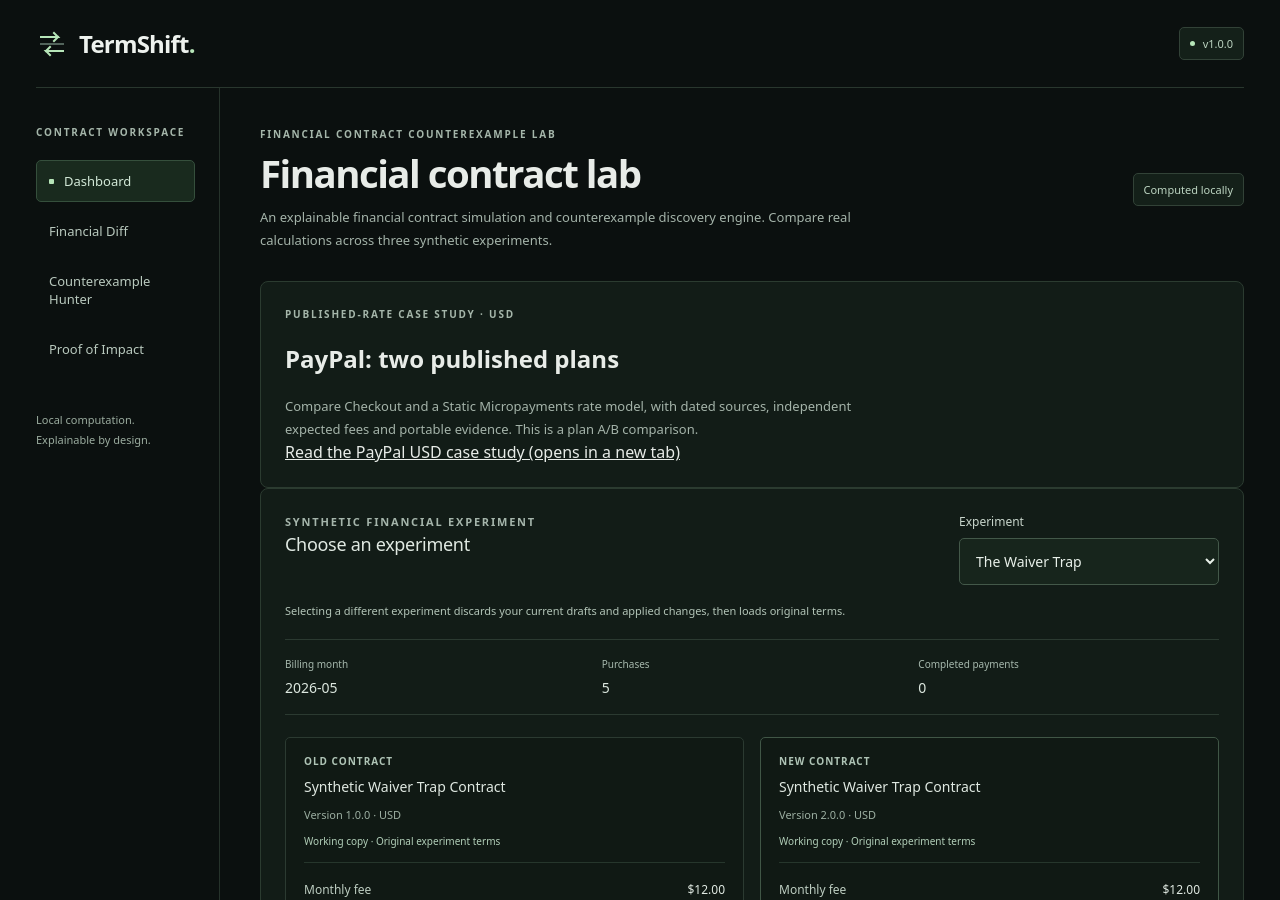
Test: Financial Diff navigation and shared workspace › retains unapplied raw inputs across view changes without running the financial engine
Click the button "Financial Diff": [116, 231] box x1=36 y1=210 x2=195 y2=252
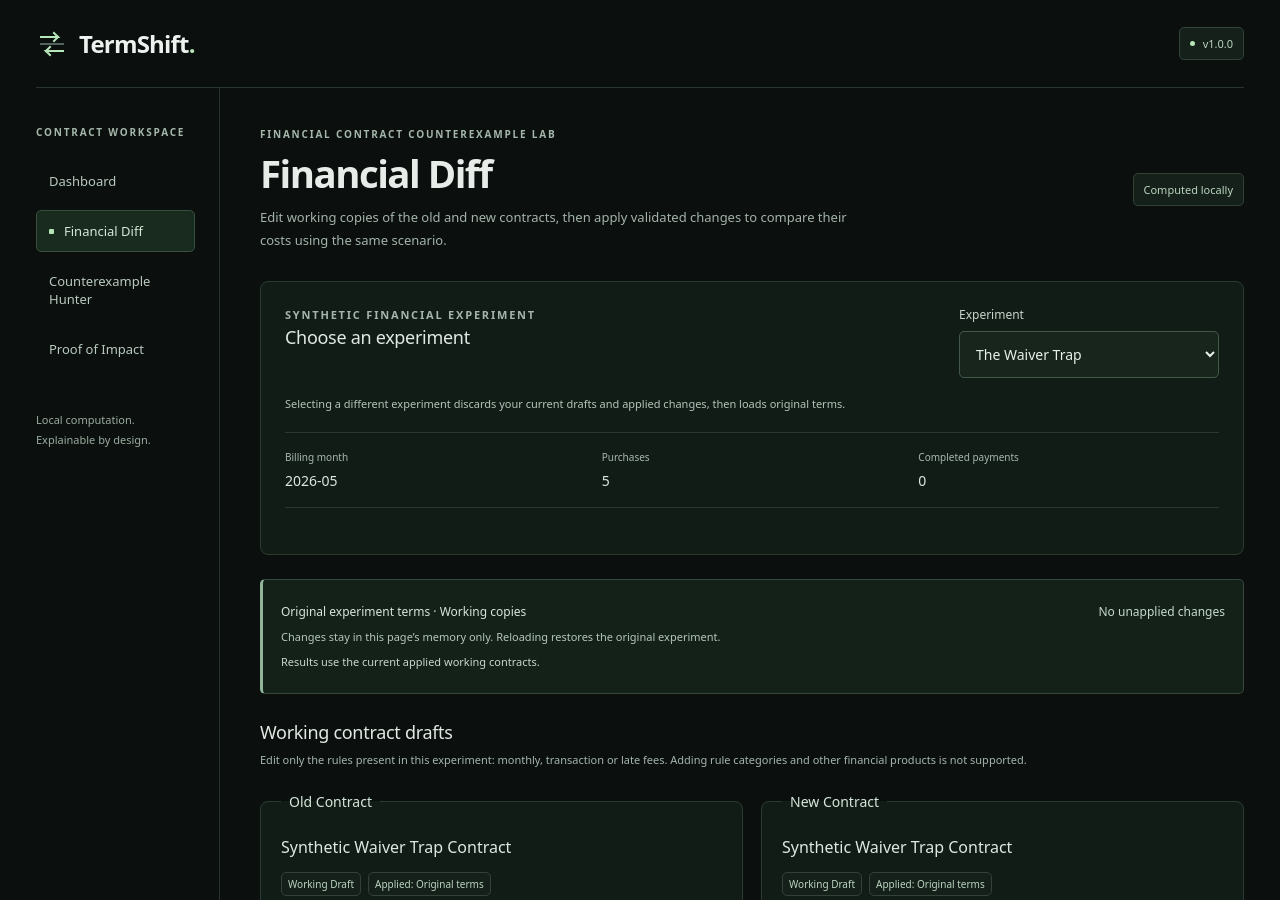
Select "The Waiver Trap" in the dropdown labelled "Experiment": [1089, 354] box x1=959 y1=331 x2=1219 y2=378
(page scrolled)
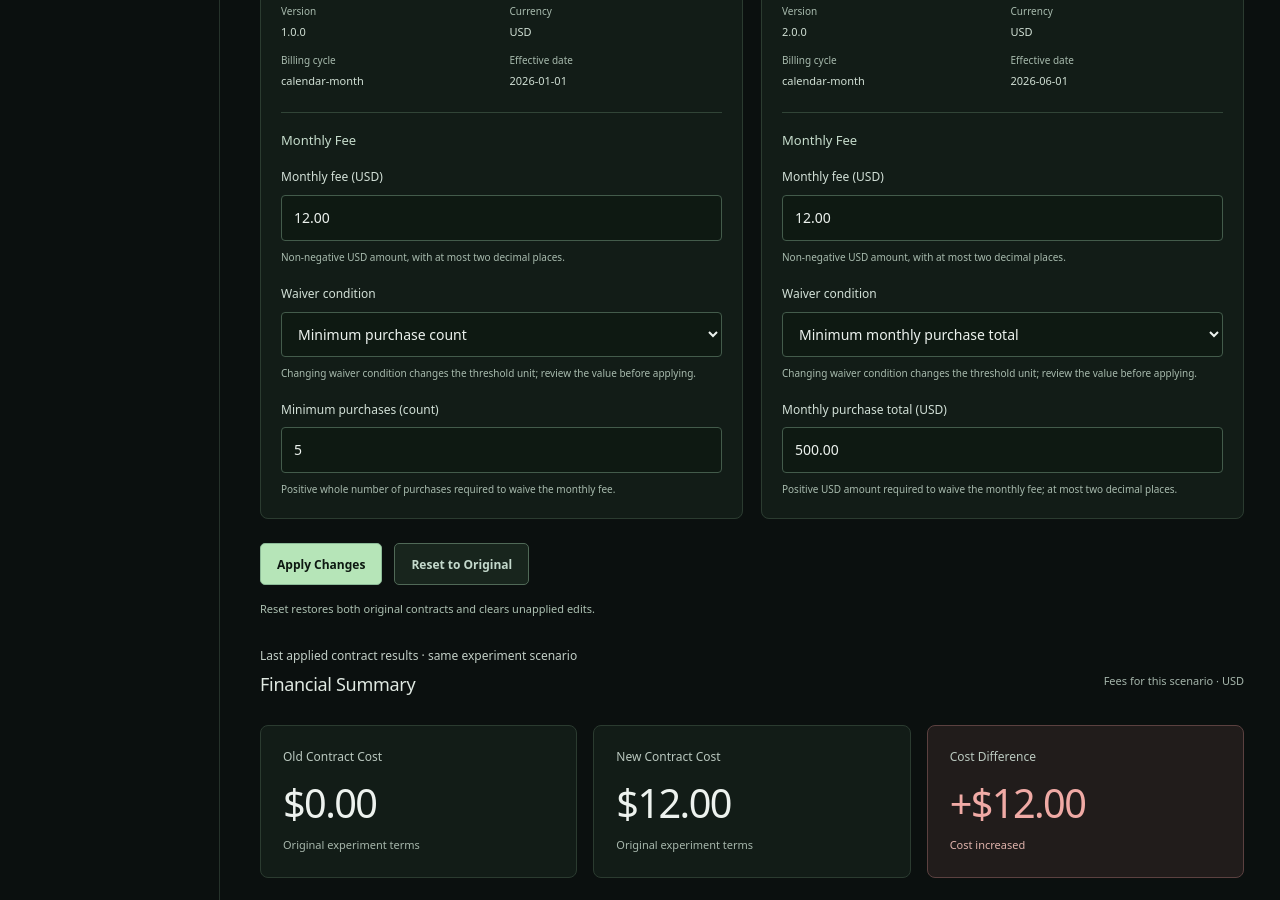
Replace the text in the field labelled "Monthly purchase total (USD)" with "5": [1002, 450] box x1=782 y1=427 x2=1223 y2=473
Replace the text in the field labelled "Monthly purchase total (USD)" with "50.": [1002, 450] box x1=782 y1=427 x2=1223 y2=473
Replace the text in the field labelled "Monthly purchase total (USD)" with "50.00": [1002, 450] box x1=782 y1=427 x2=1223 y2=473
(page scrolled)
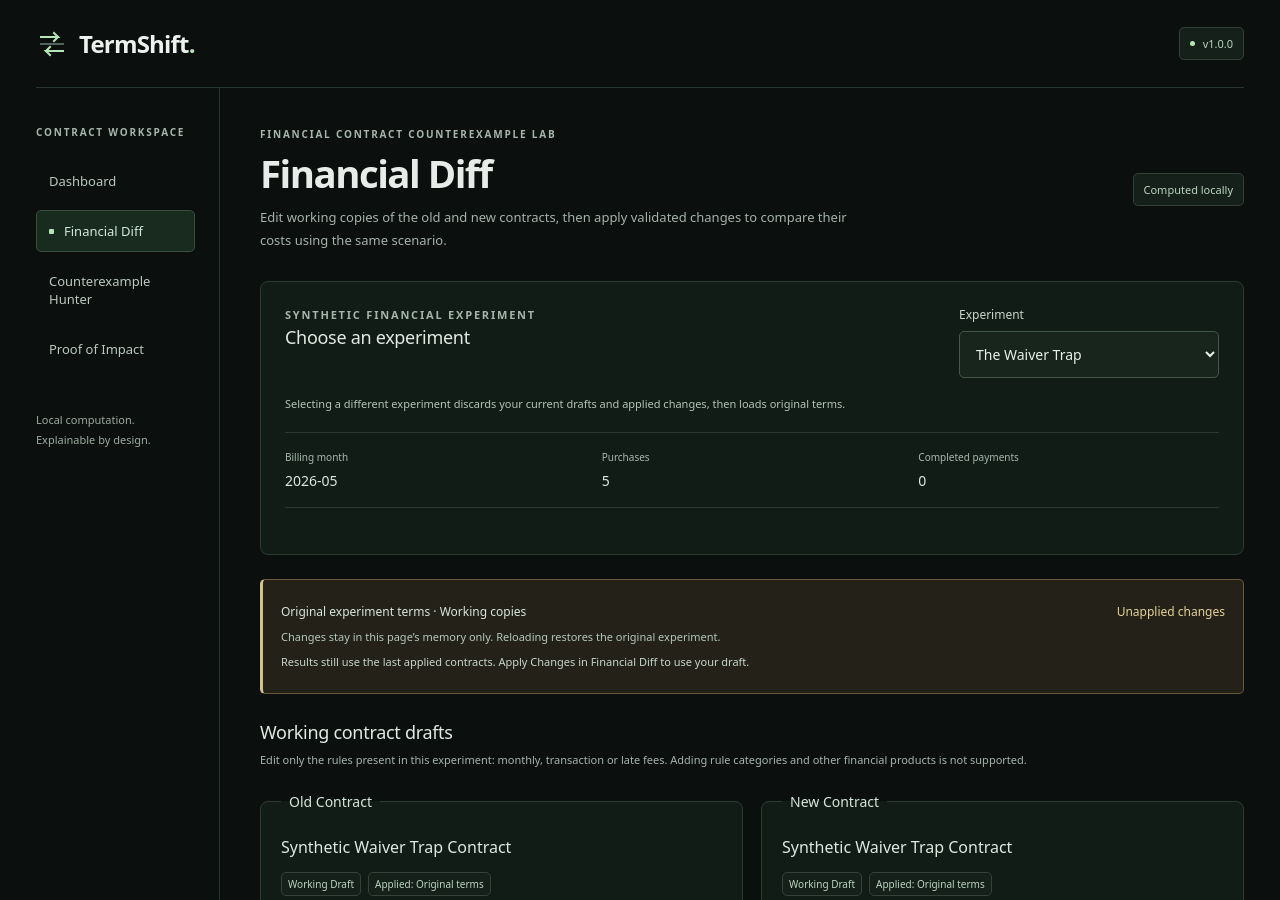
Click the button "Dashboard": [116, 181] box x1=36 y1=160 x2=195 y2=202
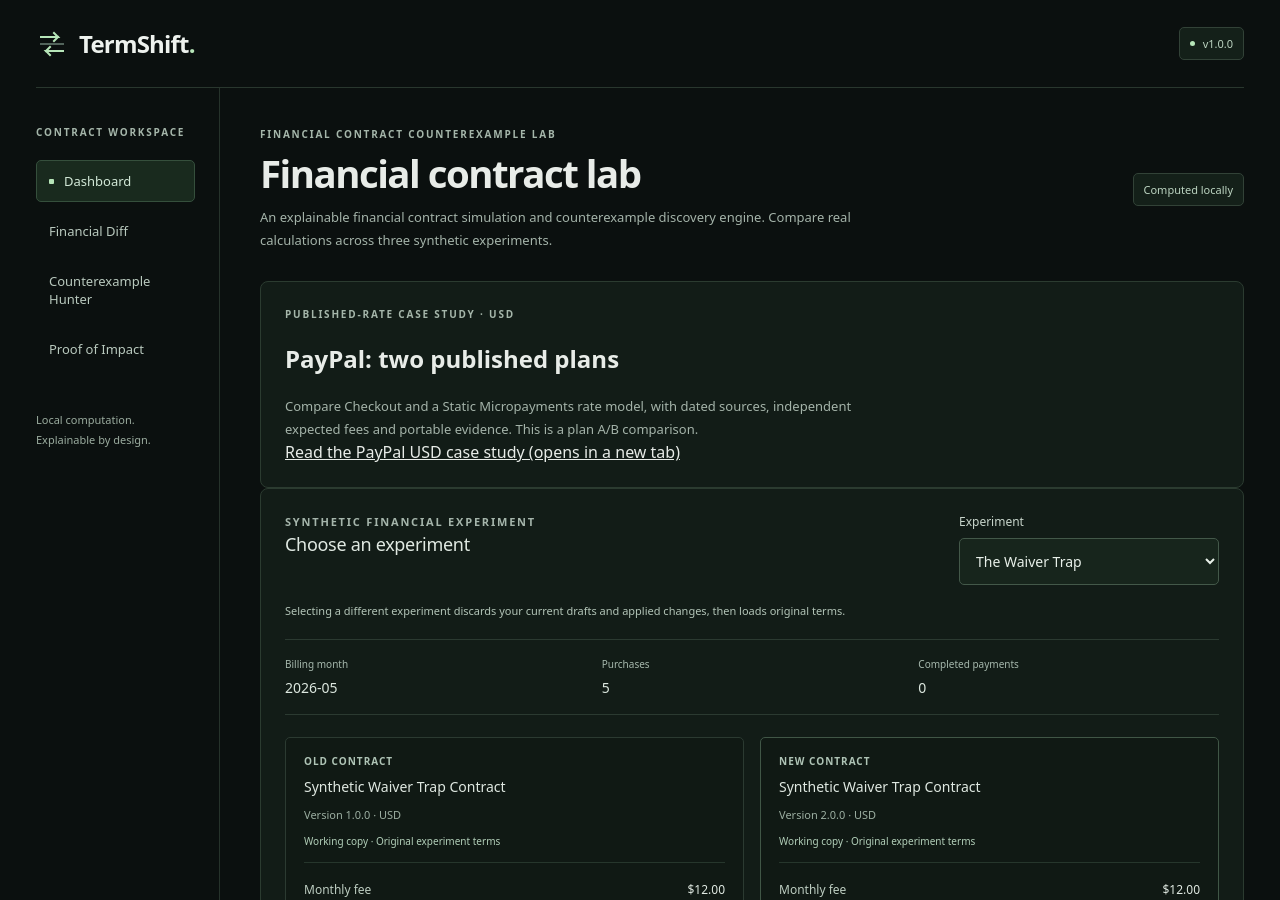
Click the button "Financial Diff": [116, 231] box x1=36 y1=210 x2=195 y2=252
(page scrolled)
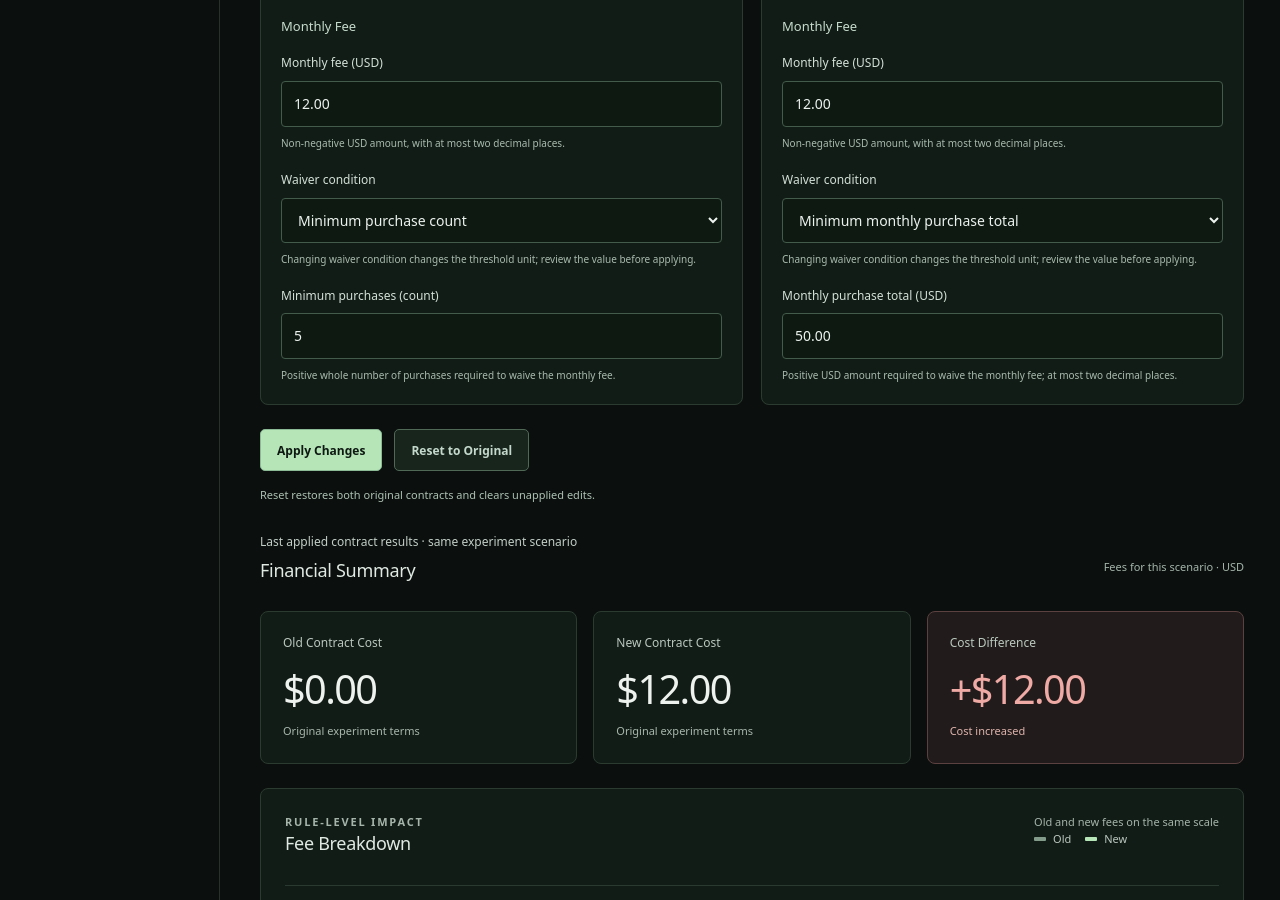
Check: the field labelled "Monthly purchase total (USD)" holds "50.00", box x1=782 y1=313 x2=1223 y2=359
Click the button "Apply Changes": [321, 450] box x1=260 y1=429 x2=382 y2=471
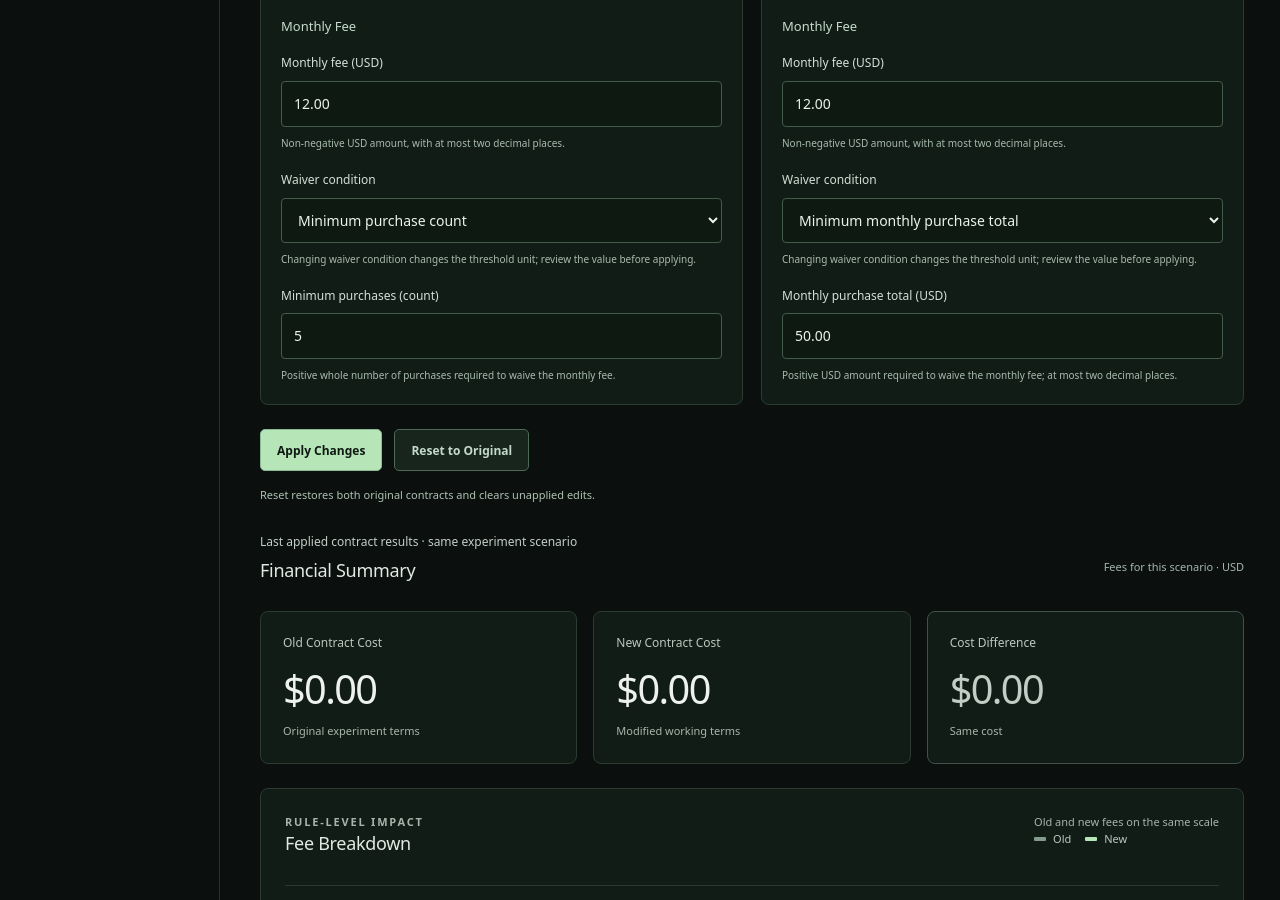
Check: the text "$0.00" below "Old Contract Cost" is shown, box x1=283 y1=662 x2=376 y2=716
Check: the text "$0.00" below "New Contract Cost" is shown, box x1=616 y1=662 x2=710 y2=716
Check: the text "$0.00" below "Cost Difference" is shown, box x1=950 y1=662 x2=1043 y2=716
